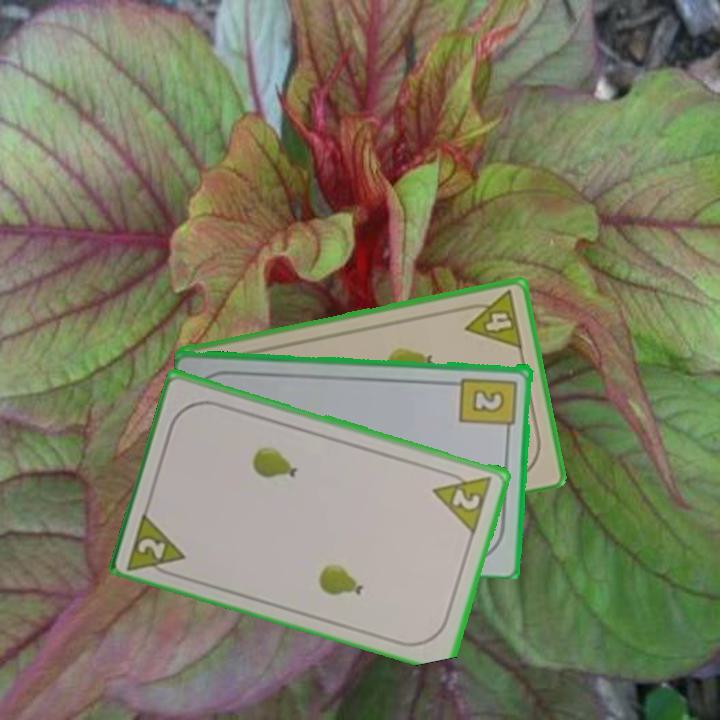2b: (457, 374, 520, 437)
2p: (124, 506, 190, 578), (429, 465, 496, 535)
4p: (458, 287, 526, 352)
